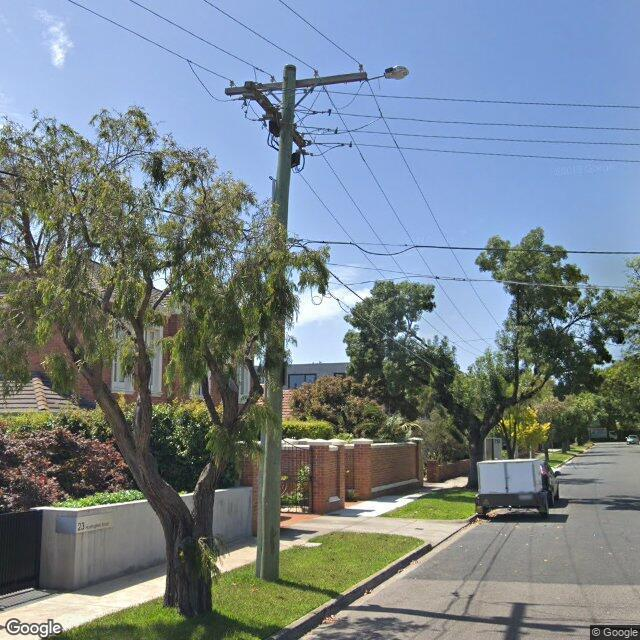crossarm: (242, 80, 353, 148), (224, 63, 369, 97)
streetlight: (368, 65, 410, 81)
timber-pole: (254, 64, 297, 580)
